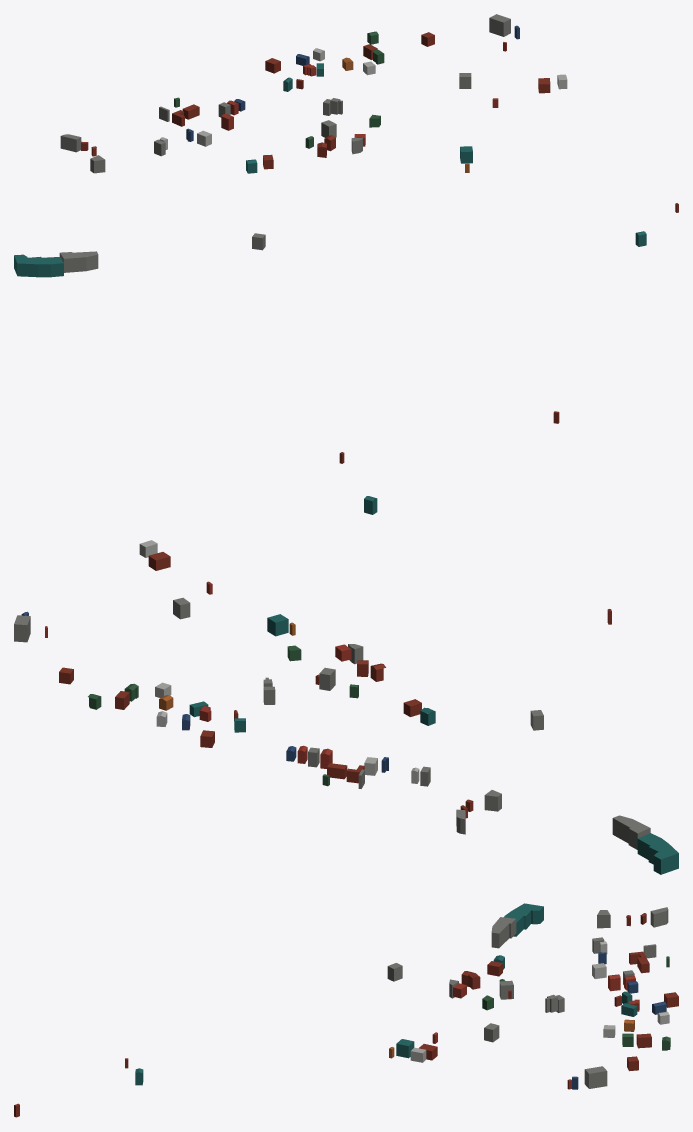
File: near-15-27356-14870.c1219da5.glb
3 renders of one model, top to bottom at view 1: azimuth 30°, elevation 25°; view 2: azimuth 150°, elevation 25°; view 3: azimuth 270°, elevation 25°, orthographic. The views are drawn at different scales.
Size of the model in its own units: 1114 by 320 by 1156.
